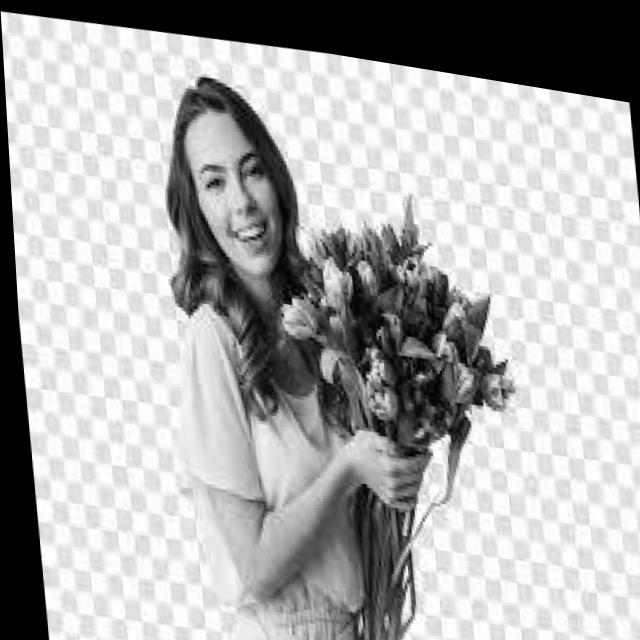Flower: (273, 185, 508, 452)
